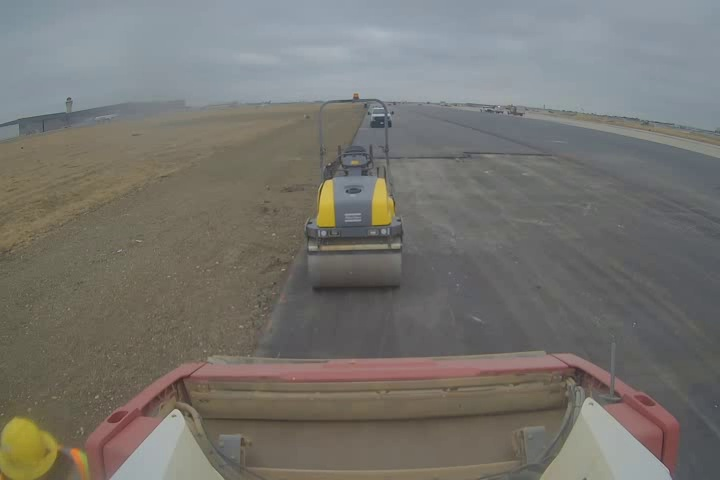person: (0, 412, 83, 480)
vehicle: (84, 349, 681, 477), (307, 98, 404, 288), (354, 109, 382, 136)
vest: (0, 449, 82, 480)
yellow_helmet: (0, 413, 57, 479)
